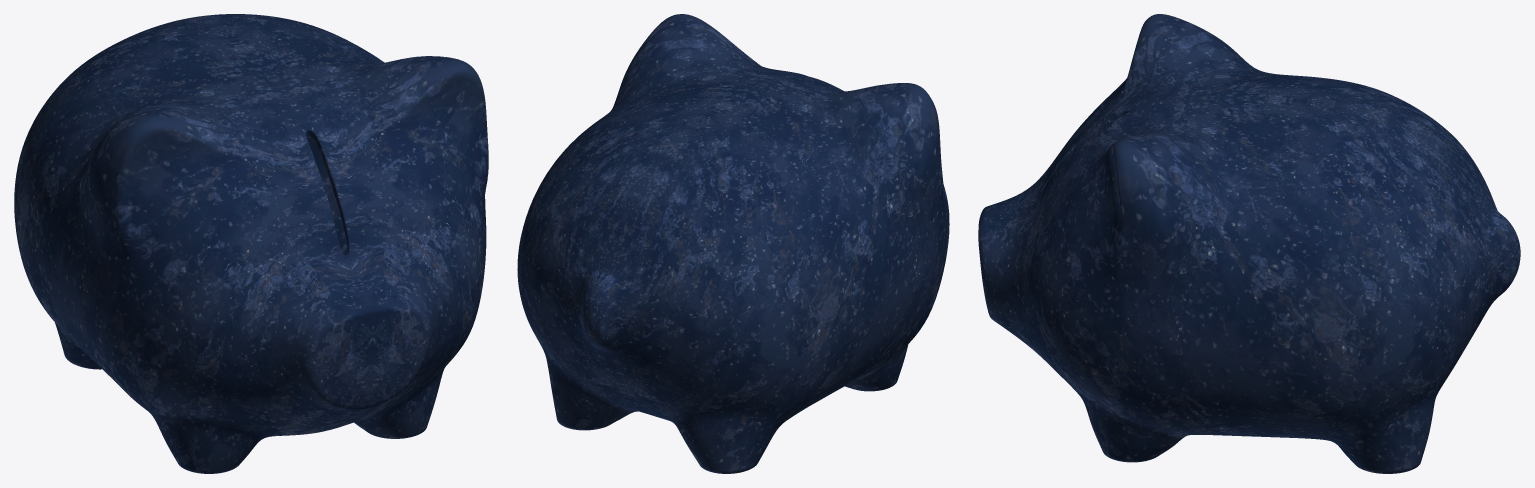
The picture shows the model from 3 angles, left to right: view 1: azimuth 30°, elevation 25°; view 2: azimuth 150°, elevation 25°; view 3: azimuth 270°, elevation 25°; orthographic projection. The views are drawn at different scales.
Visible parts, largest first — view 1: PiggyBank - 23 - kint; view 2: PiggyBank - 23 - kint; view 3: PiggyBank - 23 - kint.
Part boxes in pixels (x1,y1,x2,y2): PiggyBank - 23 - kint: (14, 14, 488, 473); PiggyBank - 23 - kint: (517, 14, 949, 473); PiggyBank - 23 - kint: (978, 14, 1520, 473).
Size of the model in its own units: 0.0203 by 0.0181 by 0.027.
Materials: 1 (1 with a texture image).
